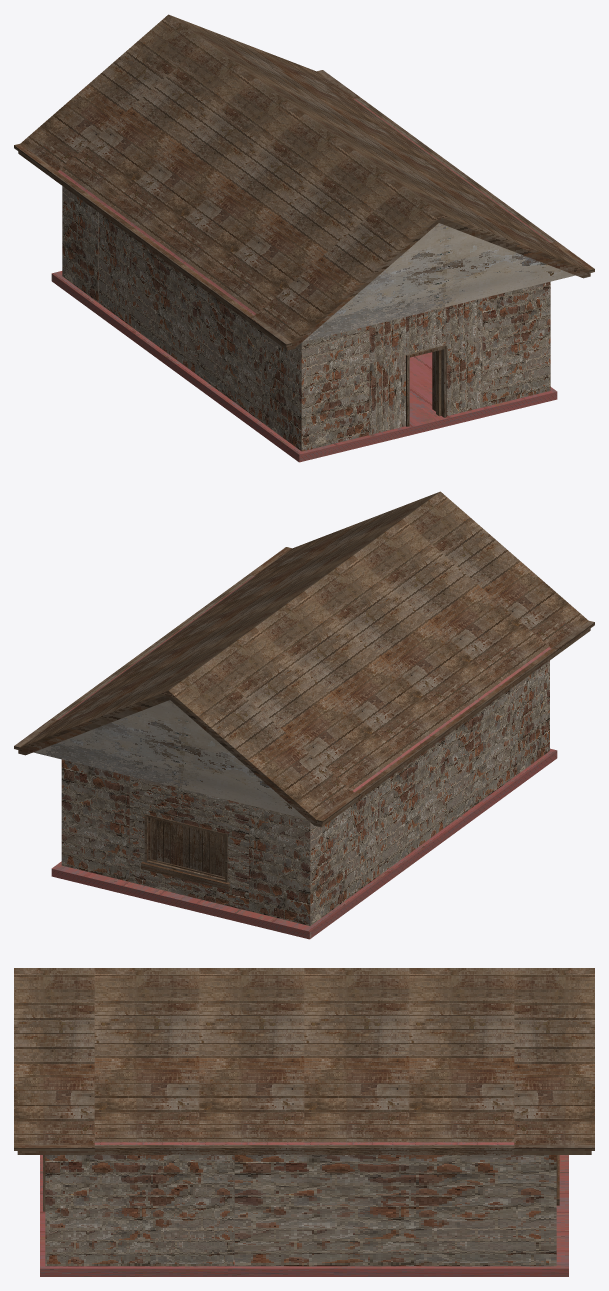
File: brick_house_redfloor.glb
3 renders of one model, top to bottom at view 1: azimuth 30°, elevation 25°; view 2: azimuth 150°, elevation 25°; view 3: azimuth 270°, elevation 25°, orthographic. The views are drawn at different scales.
Visible parts, largest first — view 1: brick_house_redfloor; view 2: brick_house_redfloor; view 3: brick_house_redfloor.
Boxes of the visible parts, box(x1,y1,x2,y2) form: brick_house_redfloor: box(14, 14, 594, 462); brick_house_redfloor: box(14, 491, 594, 939); brick_house_redfloor: box(14, 968, 594, 1276).
Size of the model in its own units: 10.87 by 7.61 by 16.6.
Materials: 1 (1 with a texture image).
